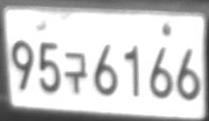1: (122, 45, 145, 97)
5: (39, 42, 61, 92)
6: (93, 44, 118, 96), (176, 48, 201, 100), (149, 46, 173, 98)
9: (11, 39, 34, 90)
구: (64, 52, 87, 94)
